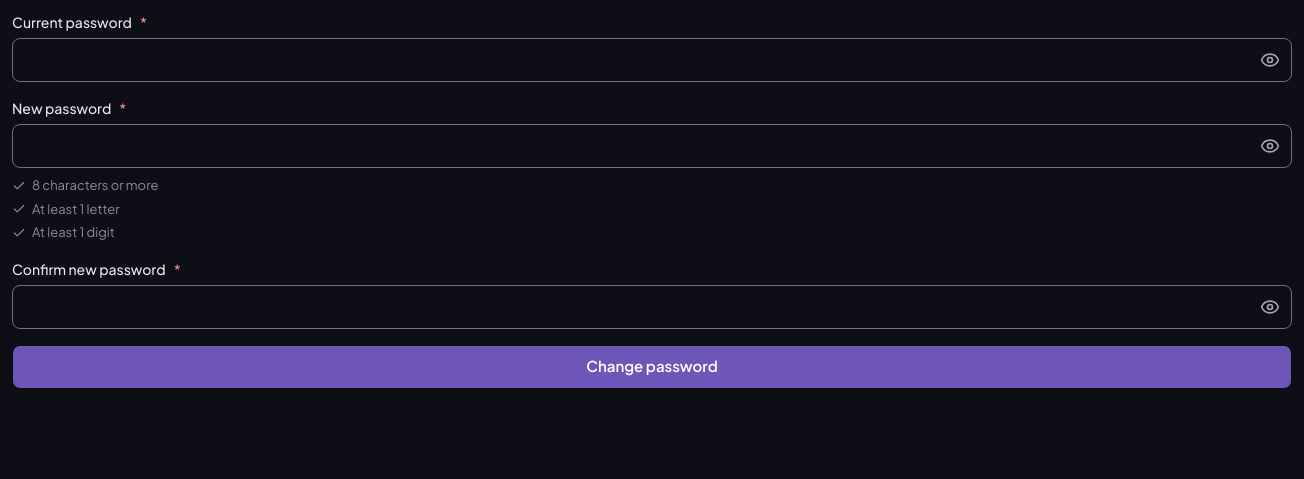
Test: a normal change sends current + new password and shows the success message
The image size is (1304, 479).
Type "OldPass123" into the password field labelled "Current password *".
click(652, 60); type("OldPass123")  # box [12,38,1292,82]
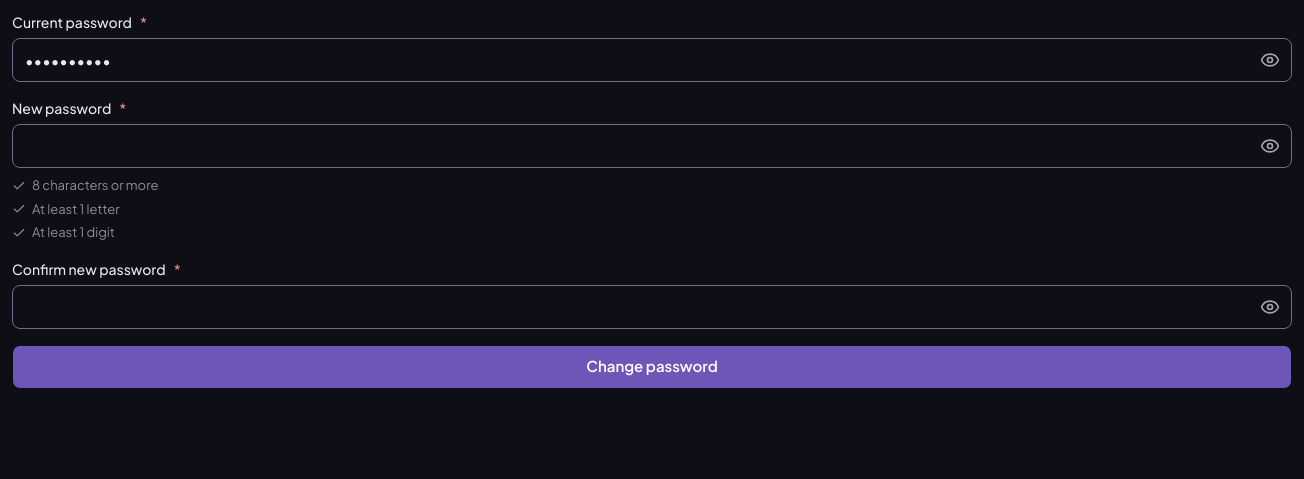
Type "NewPass456" into the password field labelled "New password *".
click(652, 146); type("NewPass456")  # box [12,124,1292,168]
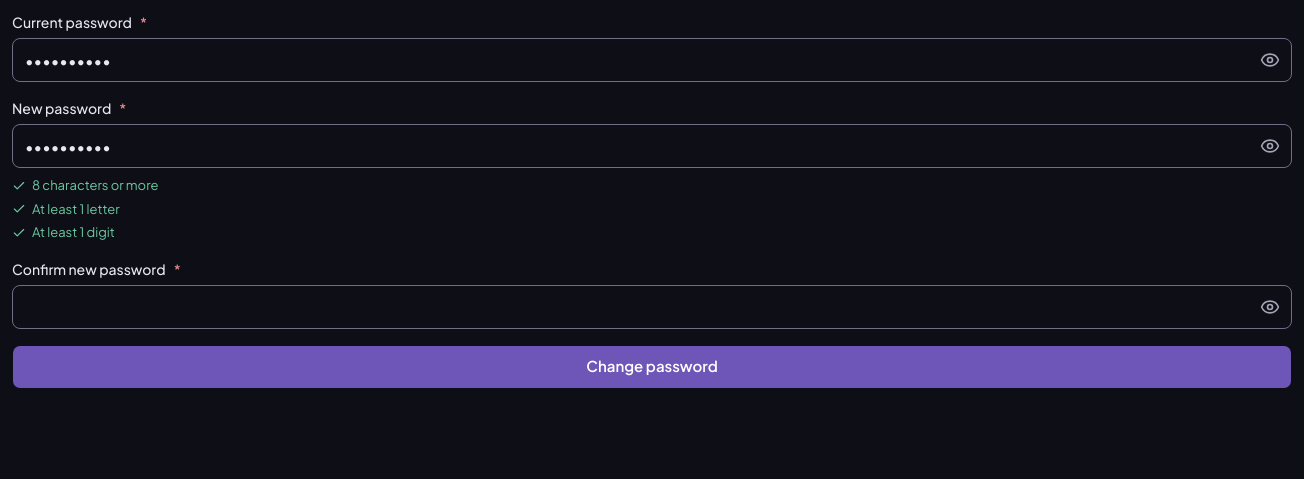
Type "NewPass456" into the password field labelled "Confirm new password *".
click(652, 306); type("NewPass456")  # box [12,284,1292,328]
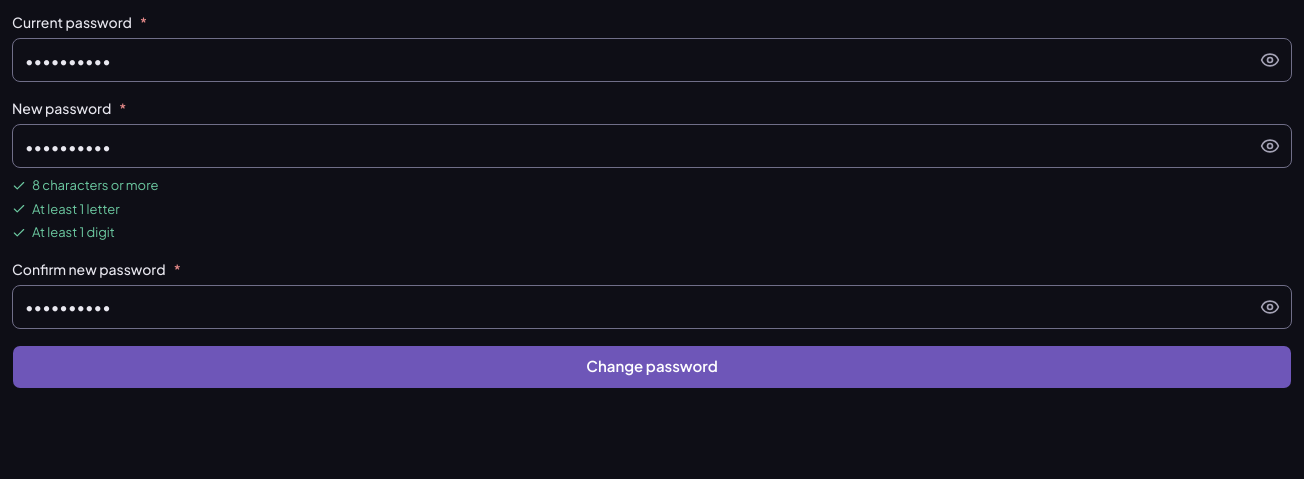
Click the button "Change password".
click(652, 366)  # box [12,344,1292,388]
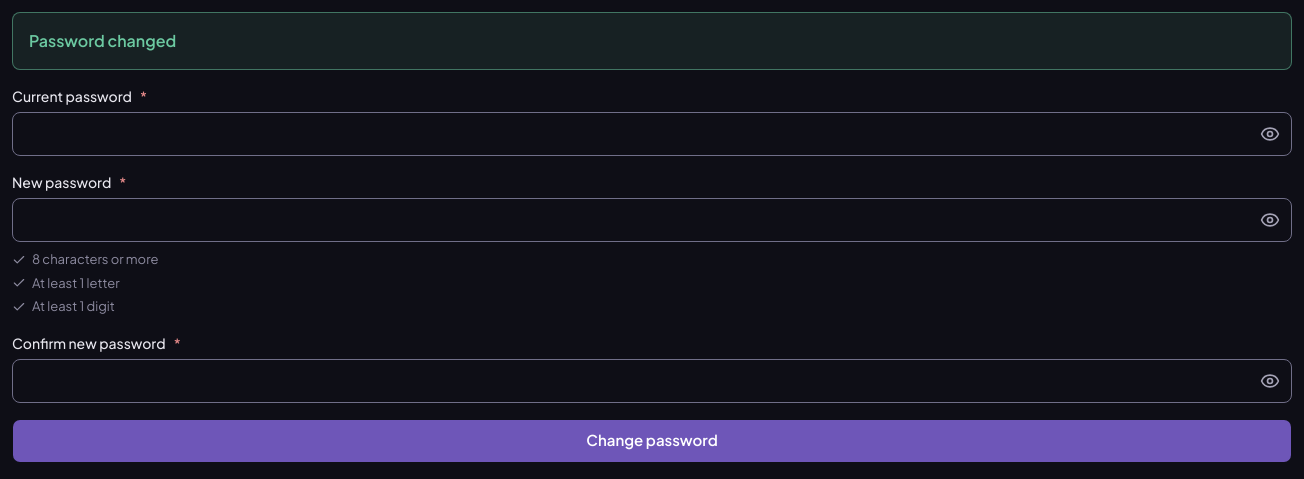
Result: the message reads "Password changed" at [29,30,176,51]
